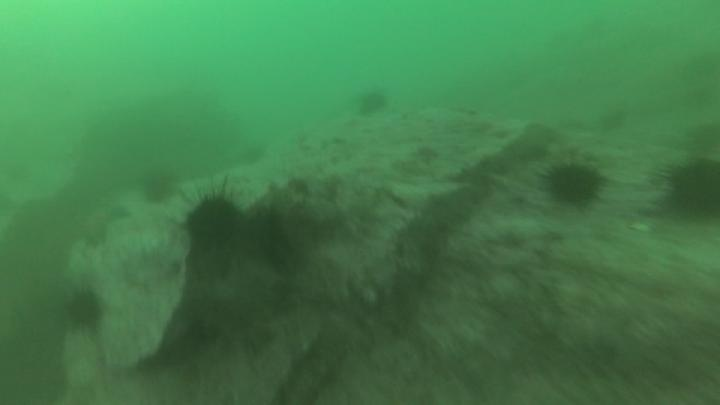echinus: (659, 154, 719, 224), (182, 189, 246, 252), (541, 159, 606, 209), (62, 285, 106, 333), (138, 167, 180, 207), (354, 86, 390, 119)
starfish: (74, 199, 131, 249)
